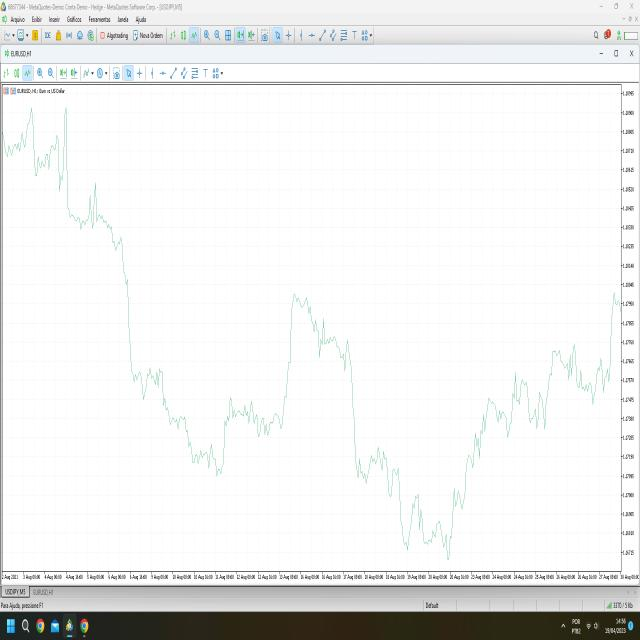bandeira_alta: (215, 360, 268, 492)
bandeira_baixa: (116, 225, 163, 403), (346, 320, 389, 497)
